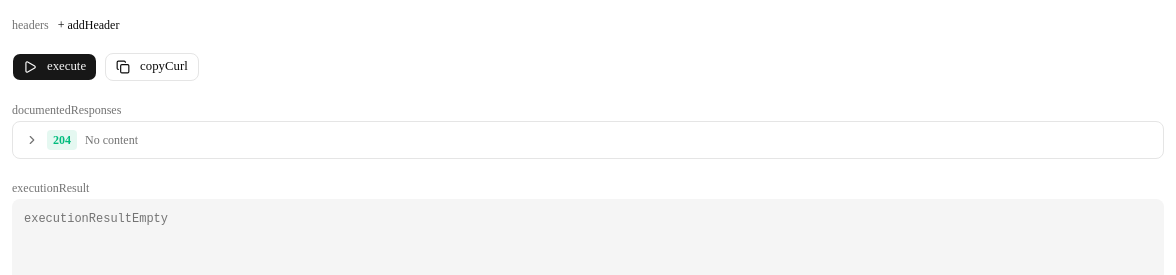
Swagger viewer details › shows documented status codes even when schema/example are absent
Expected: the text "204" is shown, [47, 130, 77, 150]
Expected: the text "No content" is shown, [85, 132, 138, 148]
Click the button "204 No content": click(112, 140) [13, 122, 1163, 158]
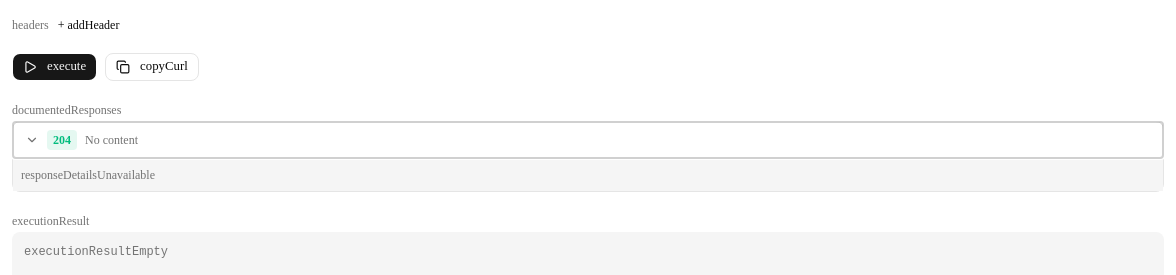
Now the text "responseDetailsUnavailable" is shown, box [21, 168, 155, 182]
